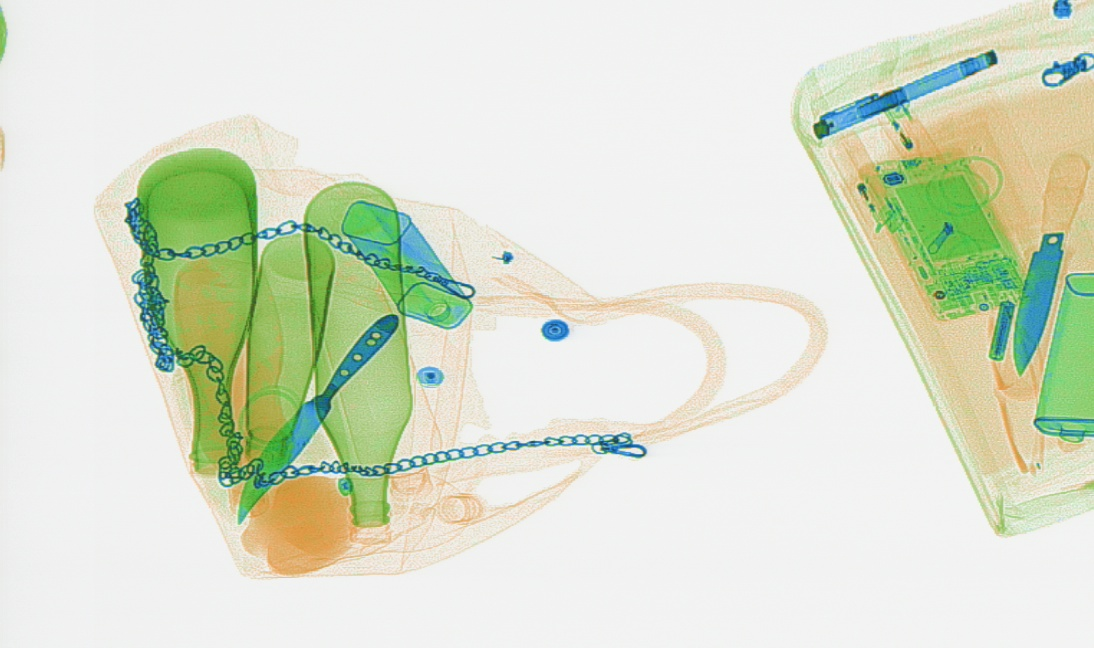knife: (236, 314, 400, 524), (1012, 154, 1089, 377)
lighter: (828, 131, 905, 233), (875, 87, 952, 184)
zippooil: (341, 201, 471, 329), (1031, 271, 1092, 450)
